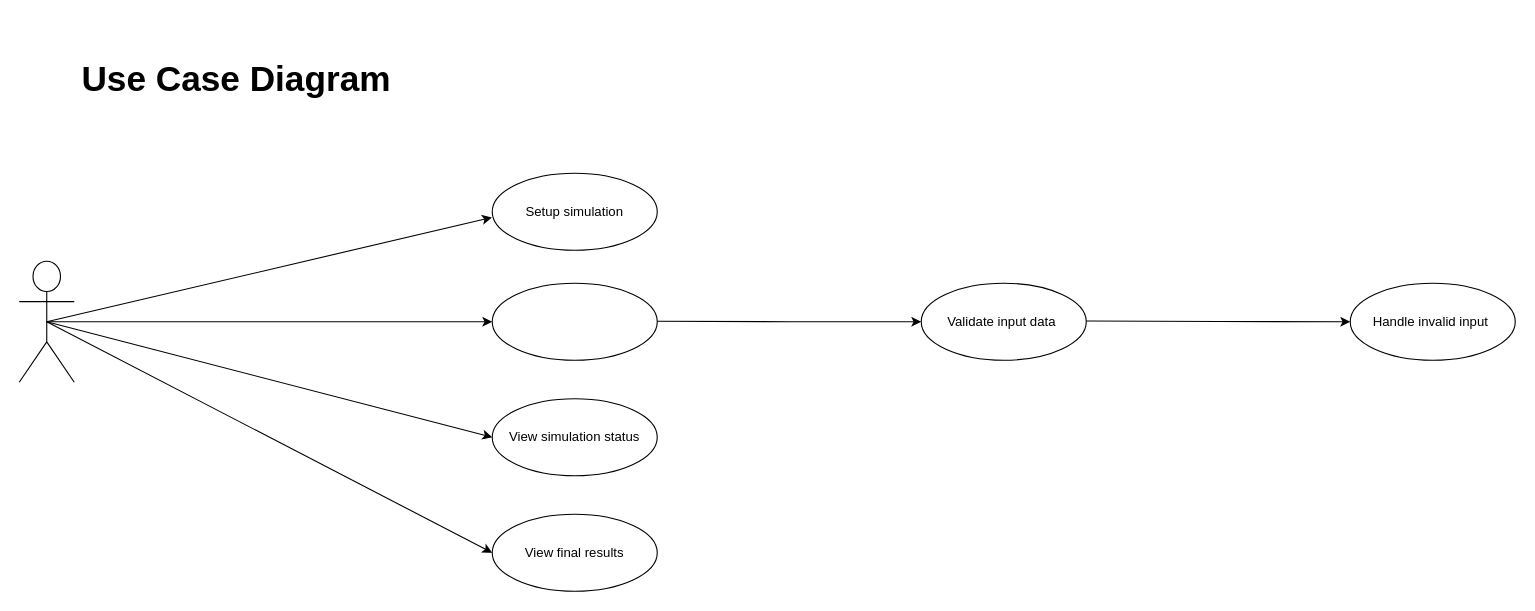
Some shapes in this 1535 by 611 pixel diagram are drawn without their labels. The centre of each missing label's shape, as x and y in pixels:
"Start simulation" belongs at (x=574, y=321).
"User" belongs at (x=46, y=321).
